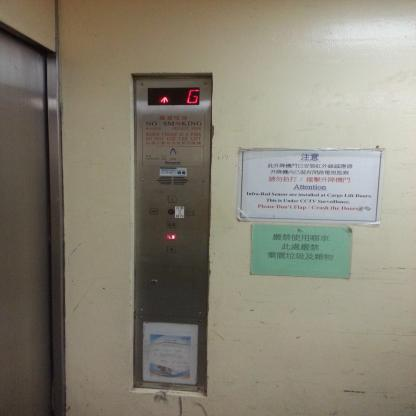G: (167, 245, 176, 252)
L2: (167, 233, 176, 240)
L3: (167, 220, 177, 228)
alarm: (167, 195, 177, 203)
blur: (167, 209, 175, 214)
close: (185, 208, 195, 216)
keyhole: (150, 279, 158, 285)
led: (146, 87, 200, 106)
open: (150, 207, 158, 215)
